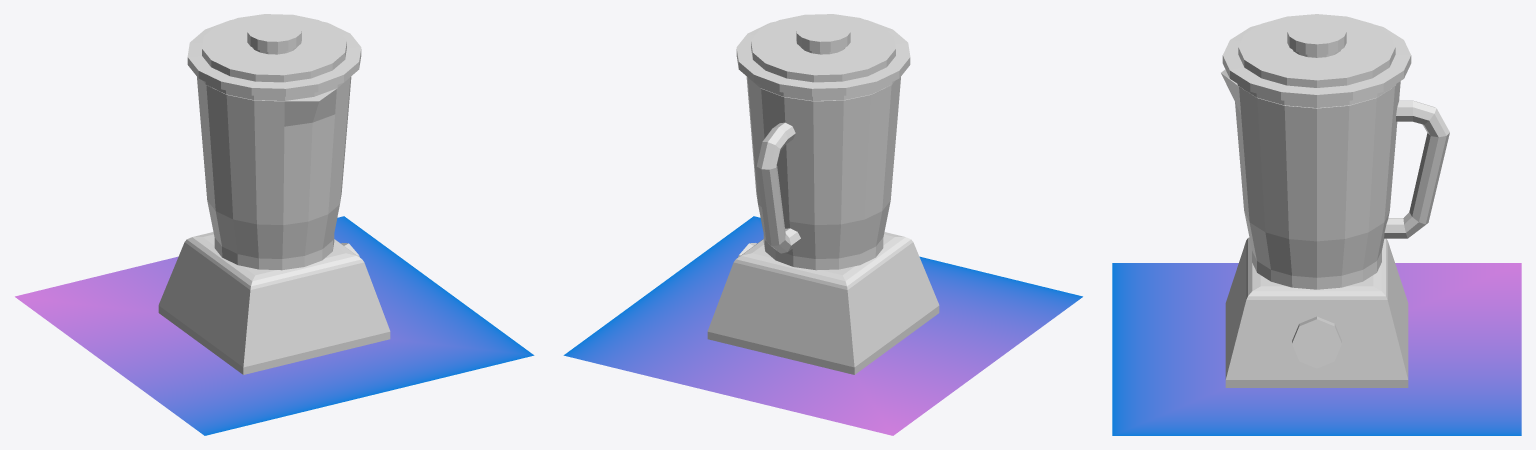
The model's file is BlenderModelBackup.fbx.
3 renders of one model, left to right at view 1: azimuth 30°, elevation 25°; view 2: azimuth 150°, elevation 25°; view 3: azimuth 270°, elevation 25°, orthographic. The views are drawn at different scales.
Visible parts, largest first — view 1: Counter Surface, Cup, Base, Lid; view 2: Counter Surface, Cup, Base, Lid; view 3: Counter Surface, Cup, Base, Lid.
Part boxes in pixels (<box>): Counter Surface: <box>15,216,534,435</box>; Cup: <box>197,77,351,270</box>; Base: <box>158,232,390,374</box>; Lid: <box>187,14,361,100</box>; Counter Surface: <box>563,216,1082,435</box>; Cup: <box>746,77,900,270</box>; Base: <box>707,232,939,374</box>; Lid: <box>736,14,910,100</box>; Counter Surface: <box>1112,263,1521,435</box>; Cup: <box>1221,69,1449,289</box>; Base: <box>1225,237,1408,387</box>; Lid: <box>1222,14,1411,107</box>.
Bounding box in the file's own units: 100 × 87.48 × 100.
